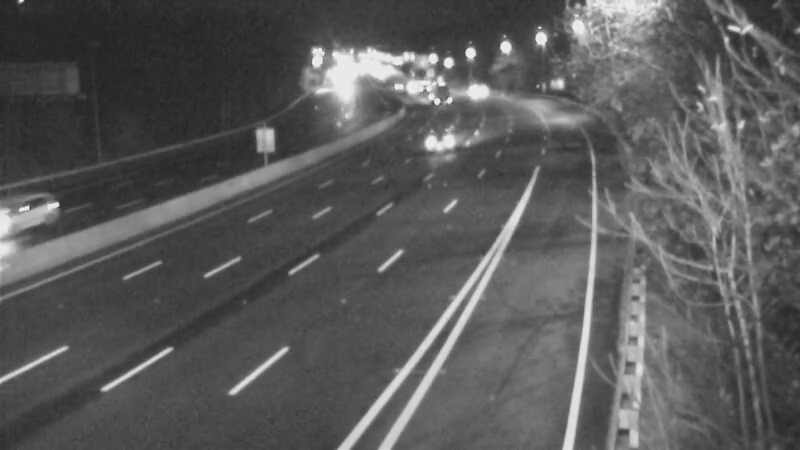vehicle: (1, 179, 66, 259), (453, 63, 503, 113), (418, 68, 468, 118), (420, 119, 470, 169)
